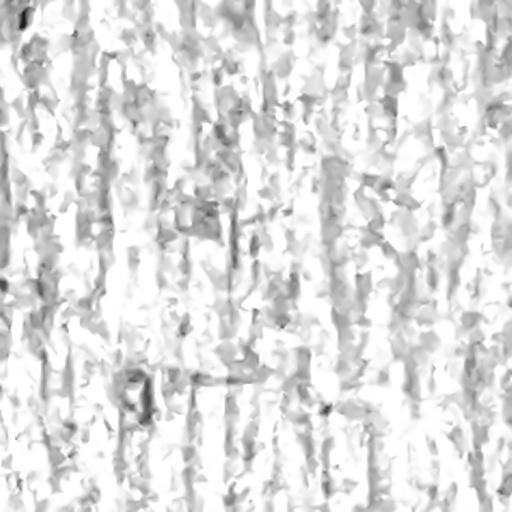egg: (18, 6, 33, 30)
